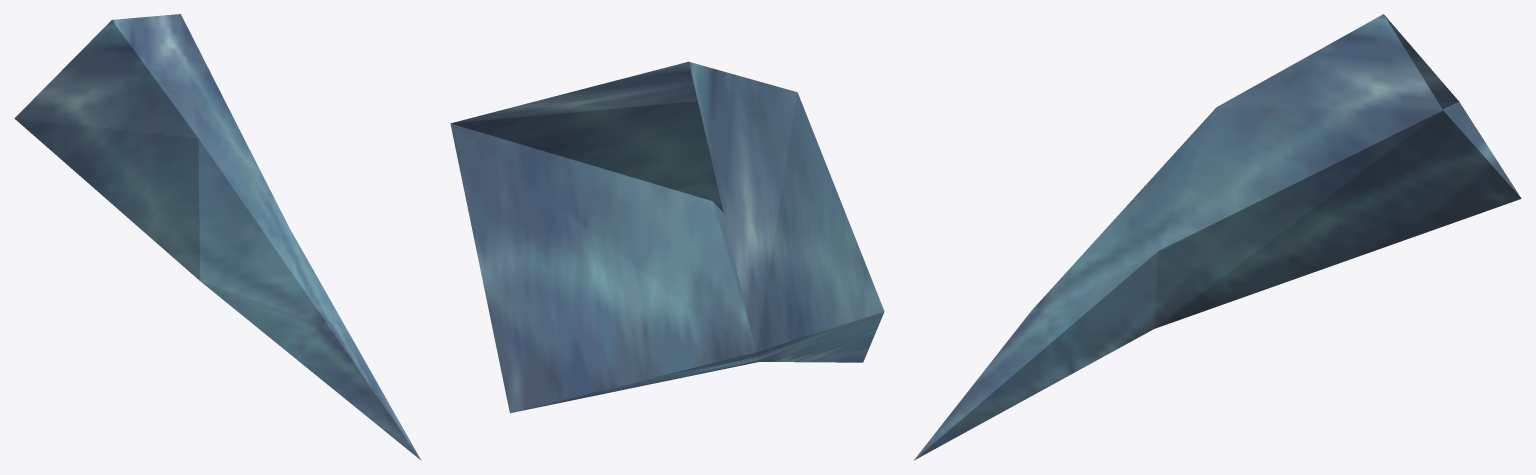
Rendered from juqing_yewai_571_shuijing02.obj.
3 renders of one model, left to right at view 1: azimuth 30°, elevation 25°; view 2: azimuth 150°, elevation 25°; view 3: azimuth 270°, elevation 25°, orthographic. The views are drawn at different scales.
Parts seen in each view (by area): view 1: juqing_yewai_571_shuijing02; view 2: juqing_yewai_571_shuijing02; view 3: juqing_yewai_571_shuijing02.
Boxes of the visible parts, x1,y1,x2,y2 form: juqing_yewai_571_shuijing02: [14, 14, 421, 460]; juqing_yewai_571_shuijing02: [450, 61, 884, 413]; juqing_yewai_571_shuijing02: [913, 14, 1521, 460].
Size of the model in its own units: 137 by 239 by 344.
